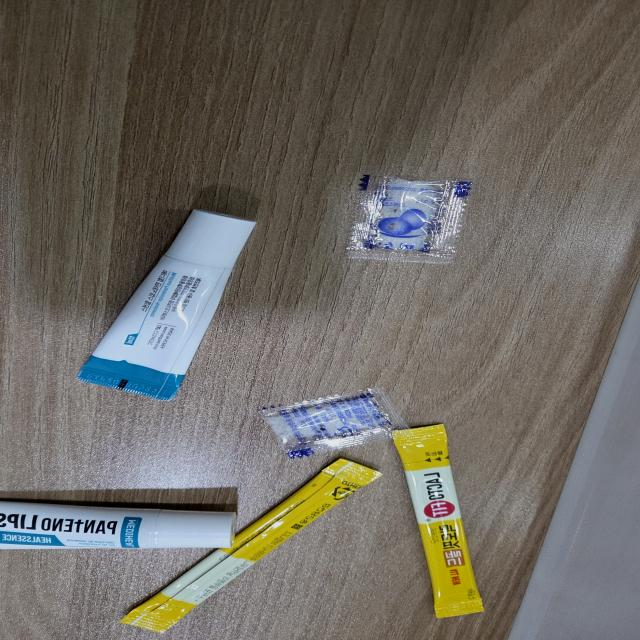lacto: (115, 457, 382, 635), (393, 419, 489, 621)
lib: (76, 203, 260, 402), (0, 500, 239, 556)
salt: (340, 173, 475, 264), (260, 385, 410, 459)
